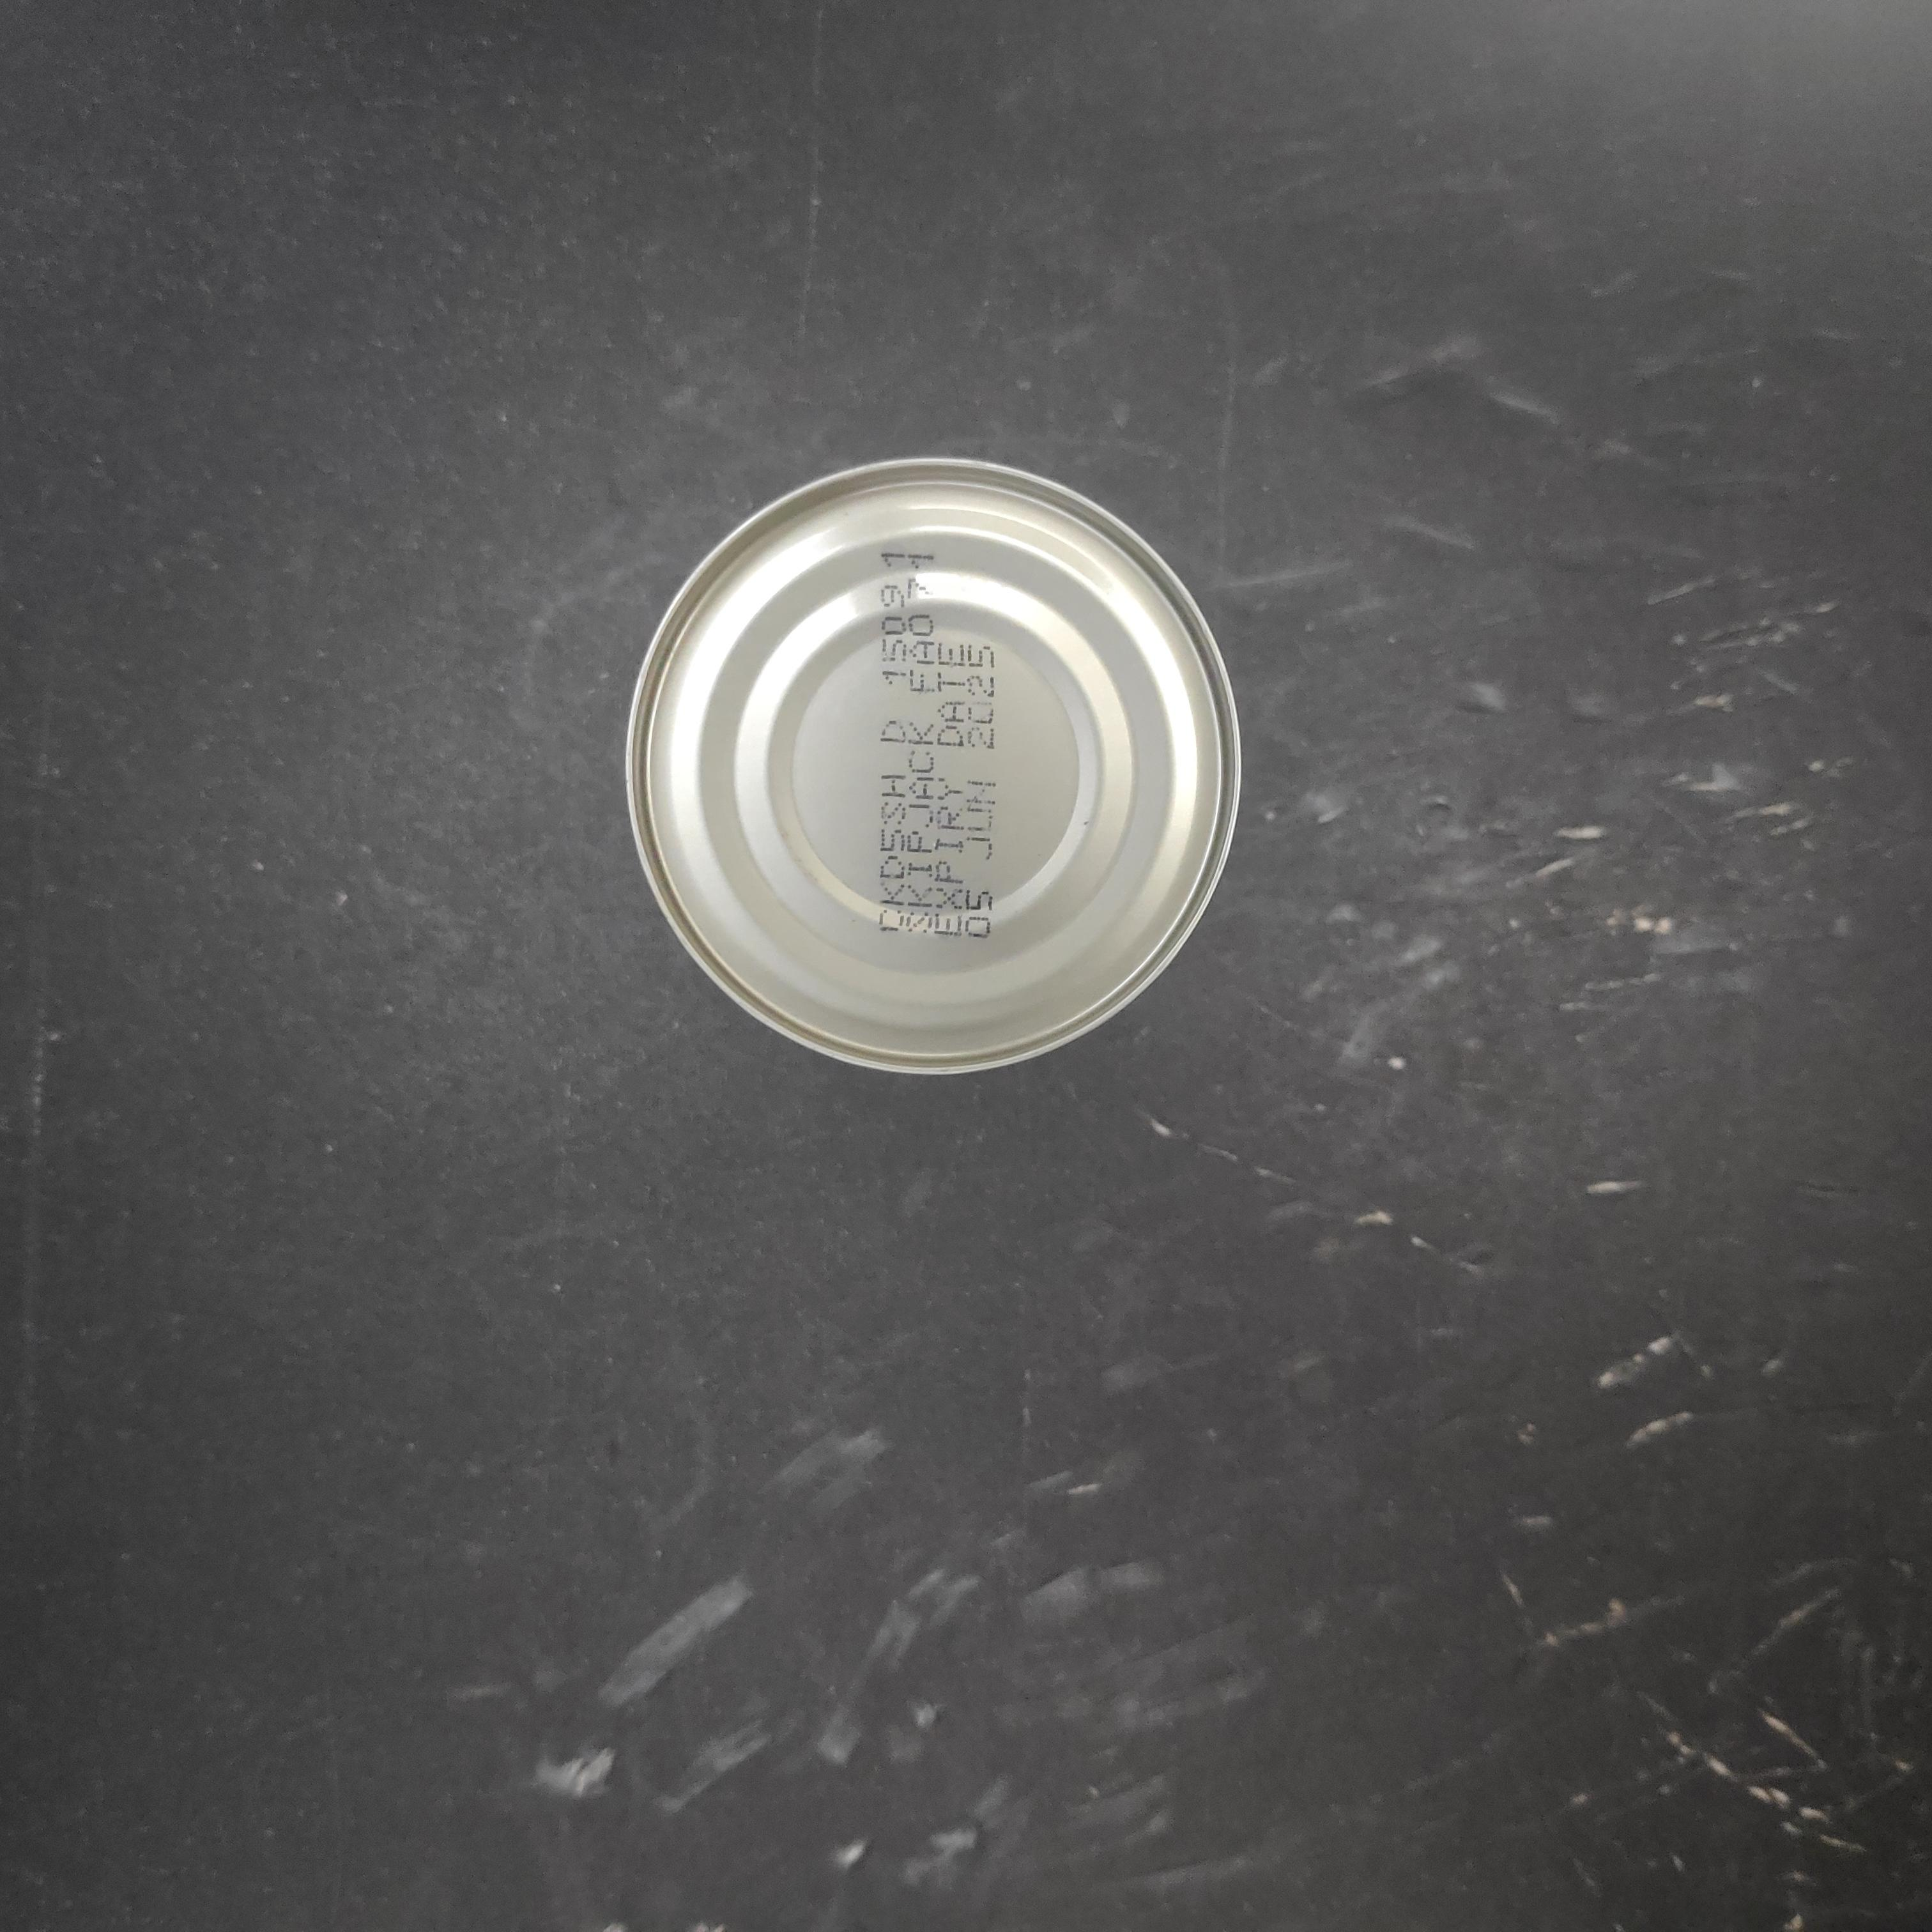No defect: (683, 855, 1311, 1479)
